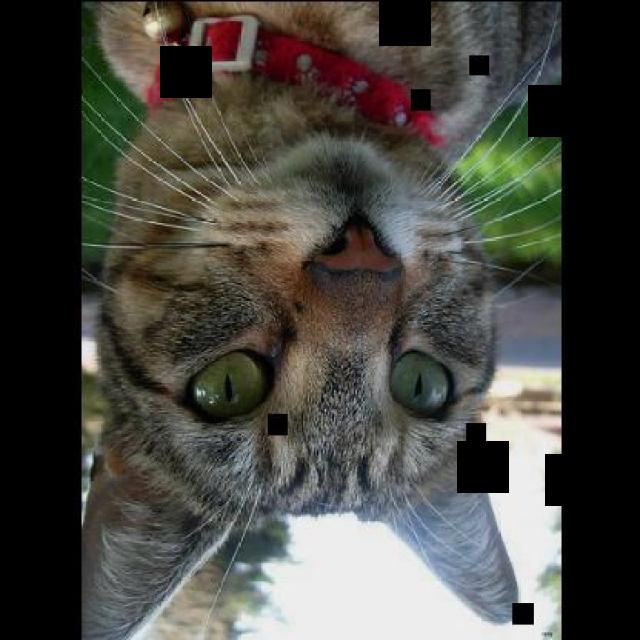unauthorized: (78, 0, 561, 638)
